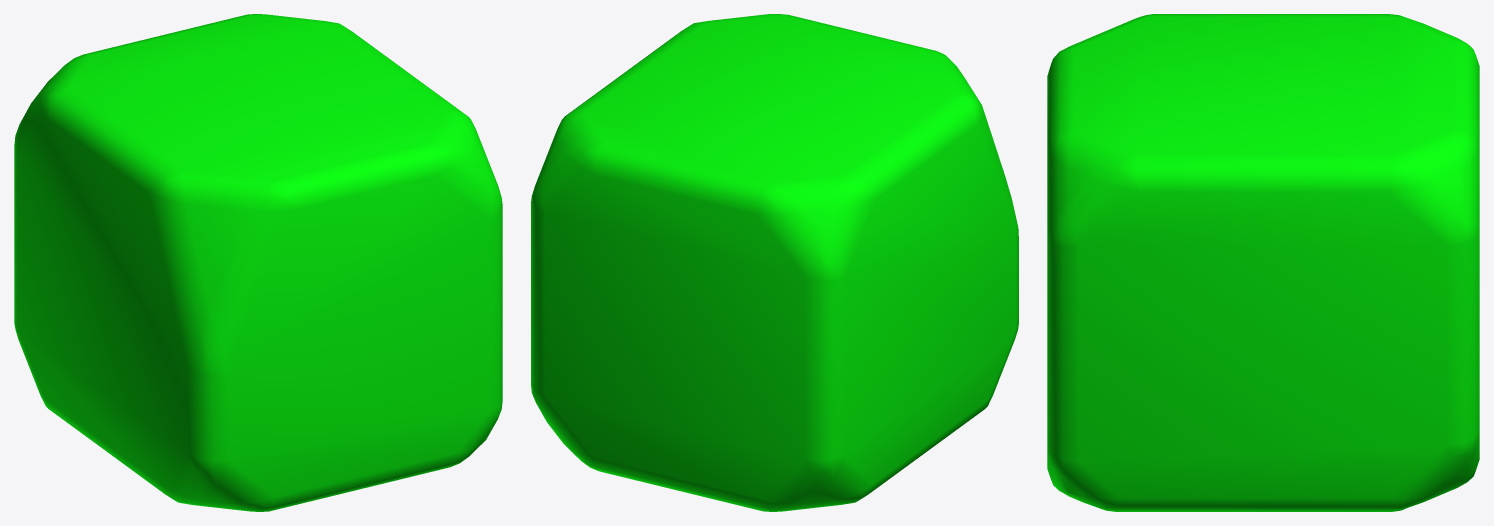
The model's file is Green_Crystal_06.fbx.
The picture shows the model from 3 angles, left to right: view 1: azimuth 30°, elevation 25°; view 2: azimuth 150°, elevation 25°; view 3: azimuth 270°, elevation 25°; orthographic projection. The views are drawn at different scales.
Visible parts, largest first — view 1: Green_Crystal_06; view 2: Green_Crystal_06; view 3: Green_Crystal_06.
Boxes of the visible parts, left/top/right/bottom form: Green_Crystal_06: left=14, top=14, right=502, bottom=511; Green_Crystal_06: left=531, top=14, right=1018, bottom=511; Green_Crystal_06: left=1047, top=14, right=1479, bottom=511.
Bounding box in the file's own units: 1.2 × 1.21 × 1.33.
